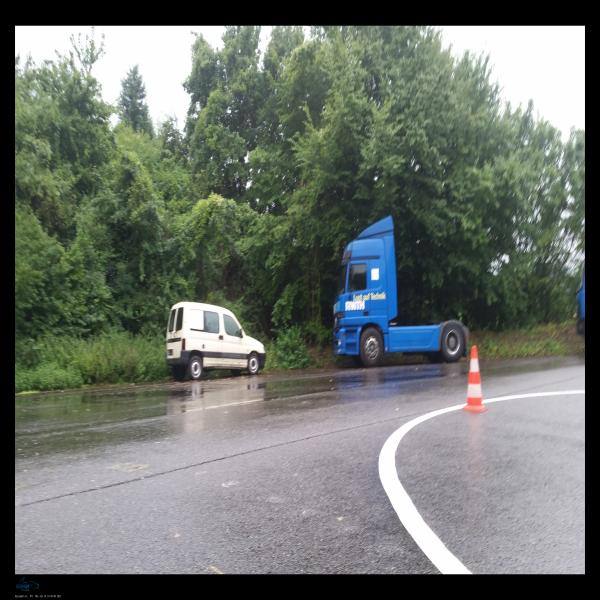orange_cone: (461, 345, 488, 413)
